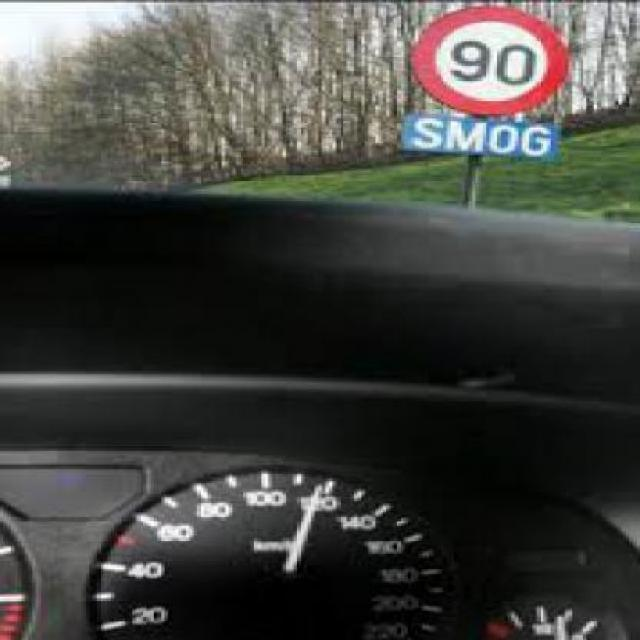Ograniczenie predkosci do 90: (413, 10, 568, 111)
